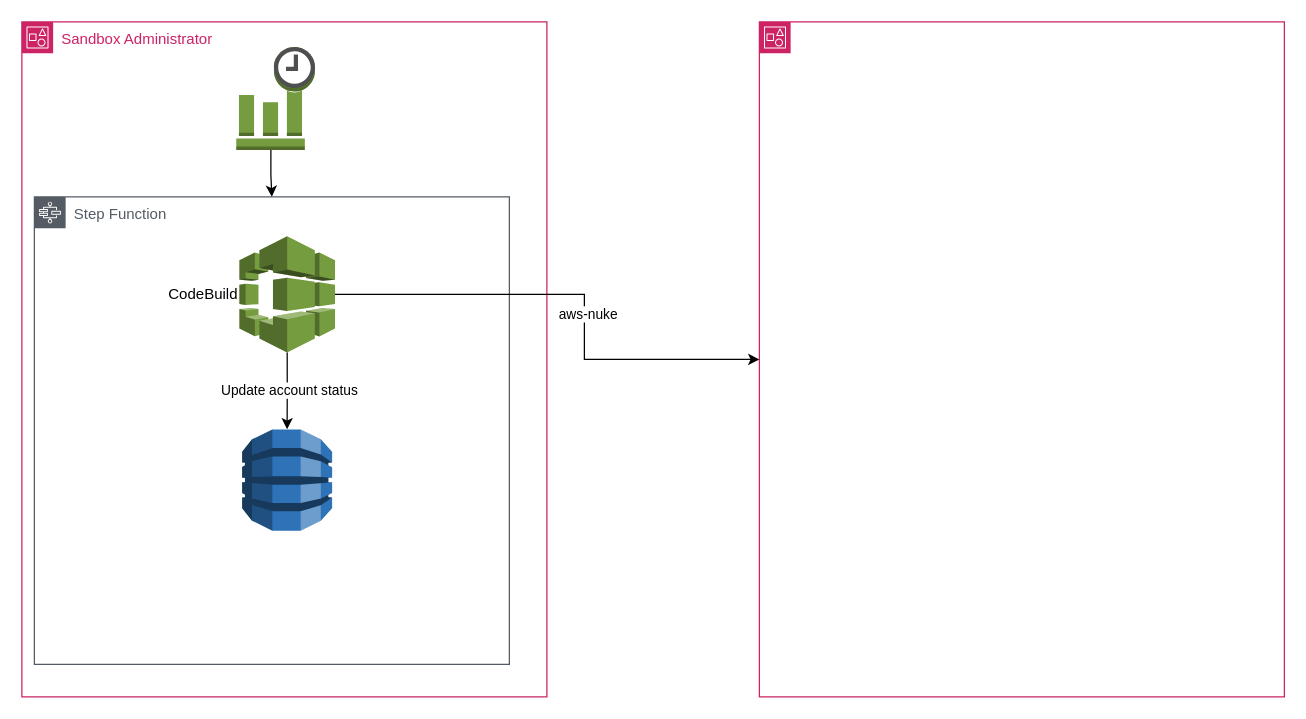
The diagram is 1306 pixels wide and 719 high, and some of its shapes have lost their labels. The centre of each missing label's shape, as x and y in pixels:
"Event Bridge Scheduler" goes at (275,98).
"Sandbox Account" goes at (1021,359).
